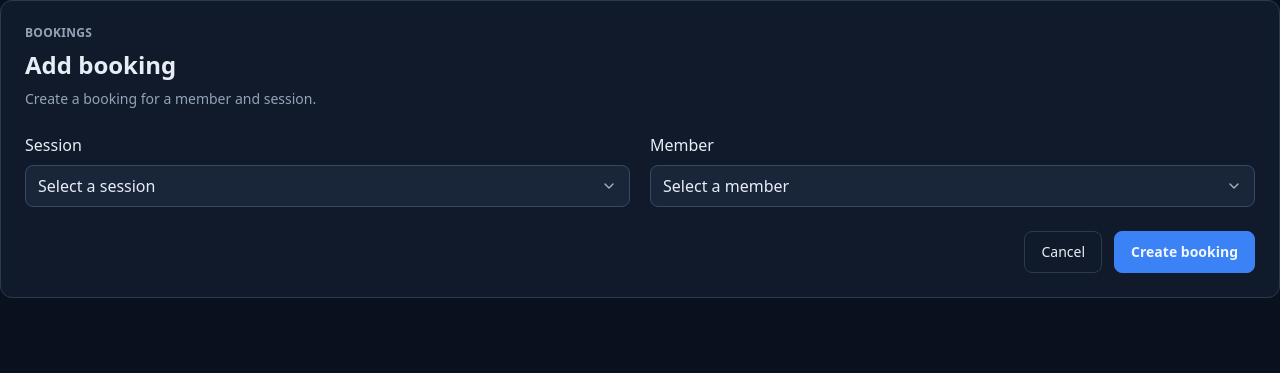
CreateBookingForm › renders business failure message returned by the action
The image size is (1280, 373).
Click the button with aria-label "session:". click: {"x": 97, "y": 186}
box: [25,165,630,207]
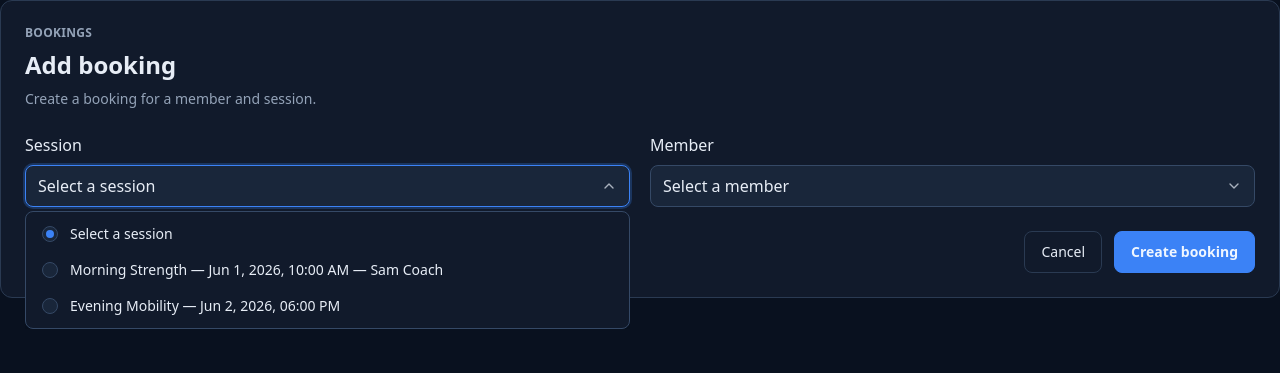
Click the radio button with aria-label "session: morning strength". click: {"x": 243, "y": 270}
box: [42,260,443,279]
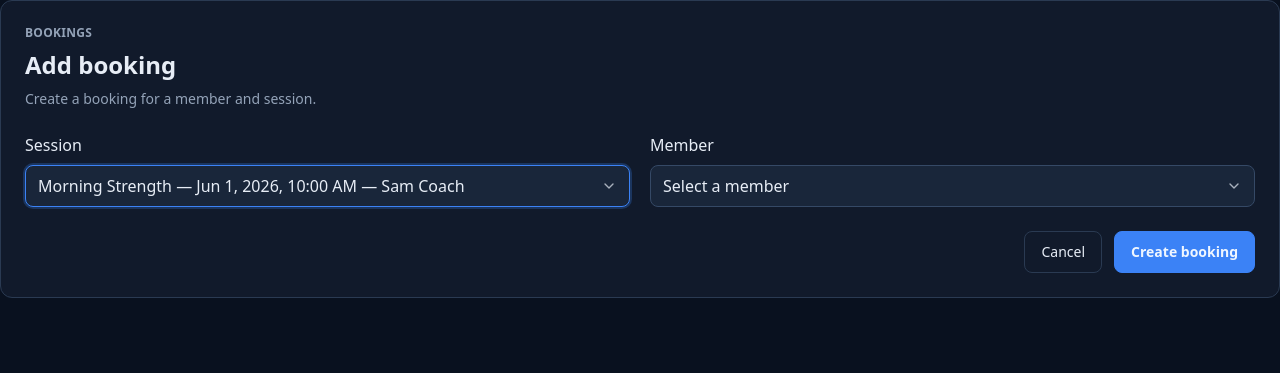
Click the button with aria-label "member:". click: {"x": 726, "y": 186}
box: [650,165,1255,207]
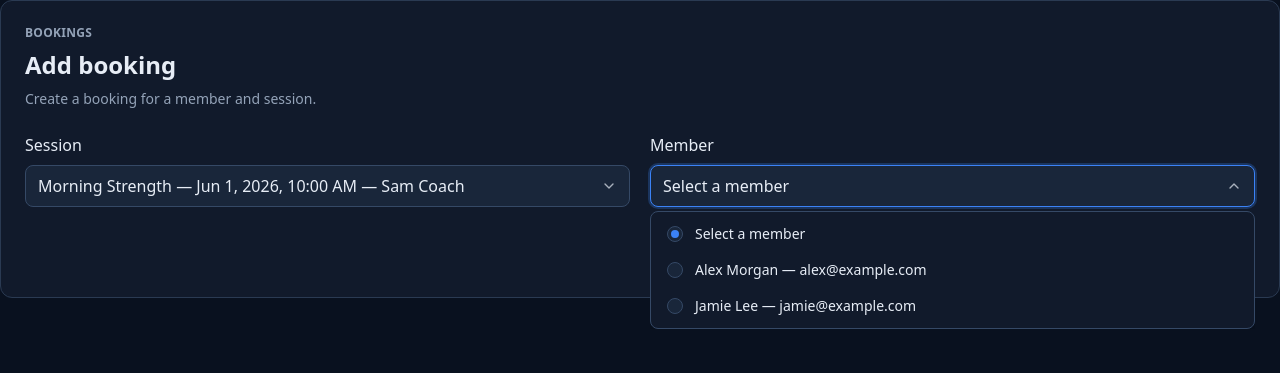
Click the radio button with aria-label "member: alex morgan". click: {"x": 797, "y": 270}
box: [667,260,927,279]
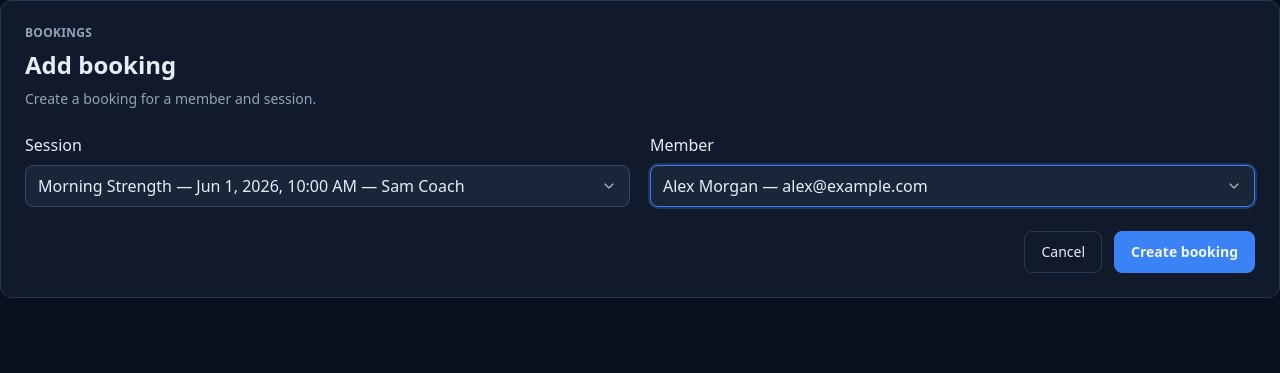
Click the button "Create booking". click: {"x": 1185, "y": 252}
box: [1114,231,1255,273]
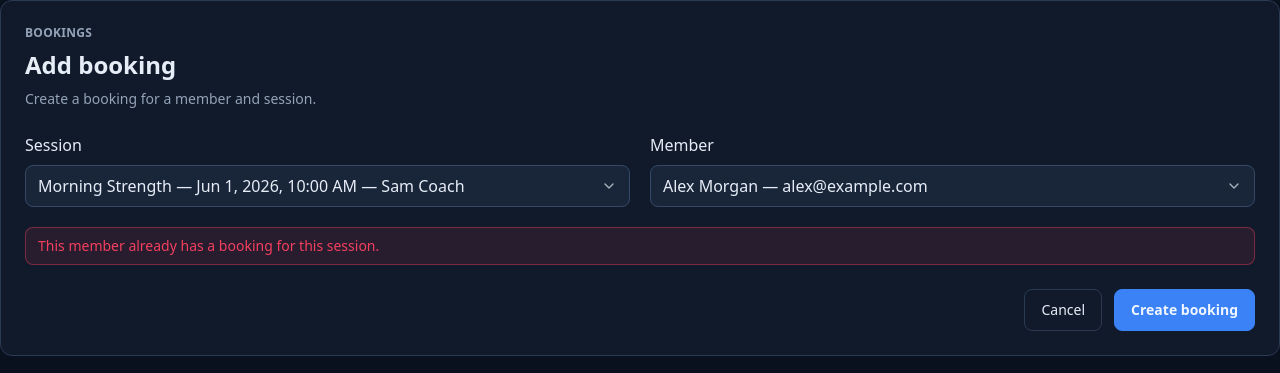
Now the message reads "This member already has a booking for this session.", box [38,236,379,255]
